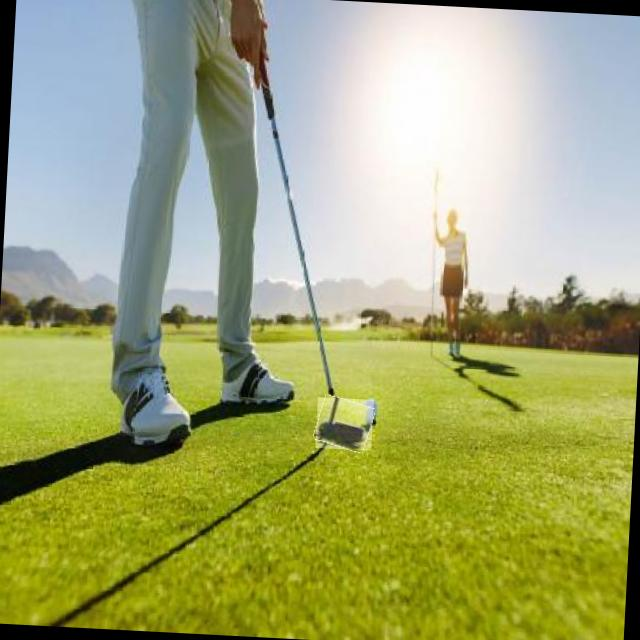club head: (315, 397, 374, 451)
